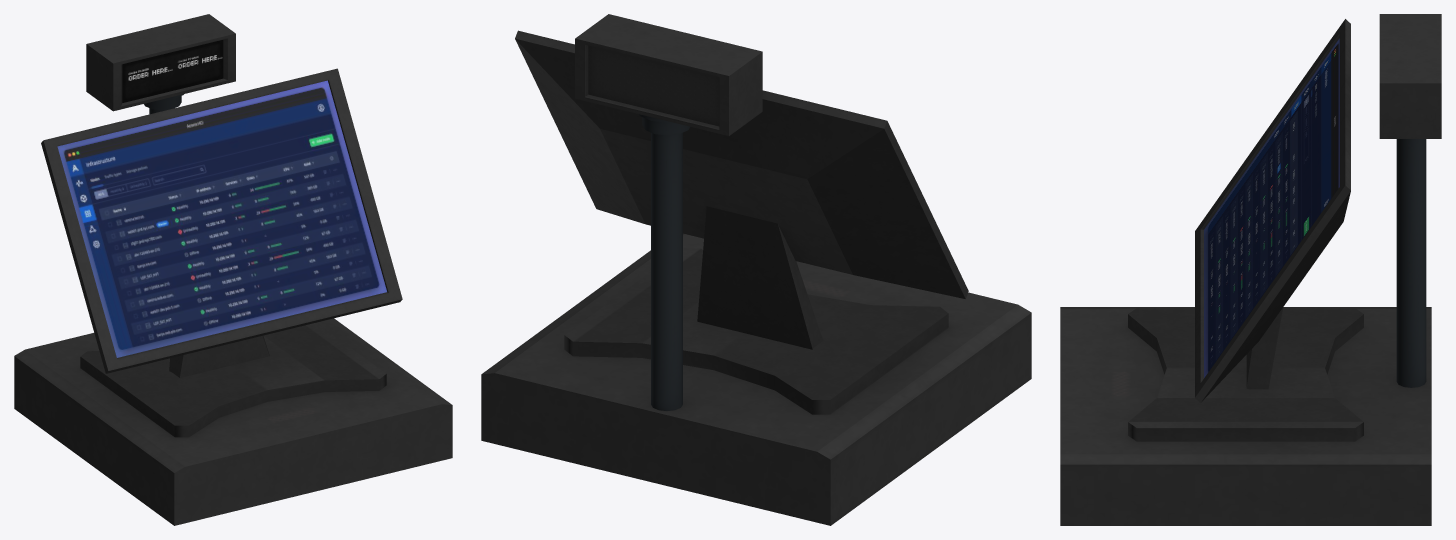
Rendered from Cashier.fbx.
The picture shows the model from 3 angles, left to right: view 1: azimuth 30°, elevation 25°; view 2: azimuth 150°, elevation 25°; view 3: azimuth 270°, elevation 25°; orthographic projection. The views are drawn at different scales.
Parts seen in each view (by area): view 1: Cashier; view 2: Cashier; view 3: Cashier.
Boxes of the visible parts, bbox=[...] form: Cashier: bbox=[14, 14, 452, 525]; Cashier: bbox=[481, 14, 1031, 525]; Cashier: bbox=[1060, 14, 1441, 525].
Bounding box in the file's own units: 43.04 × 47.91 × 41.66.
